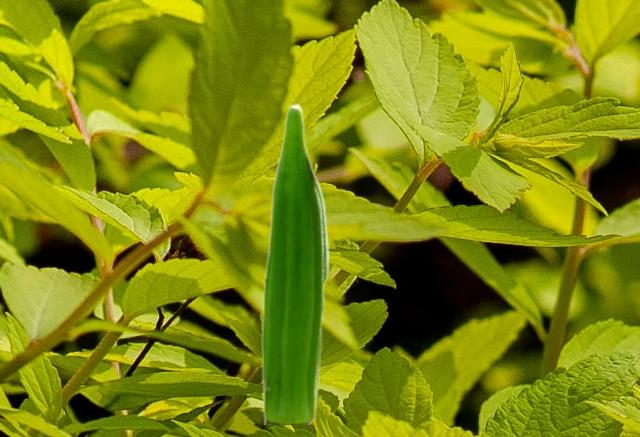okra: (261, 102, 329, 423)
